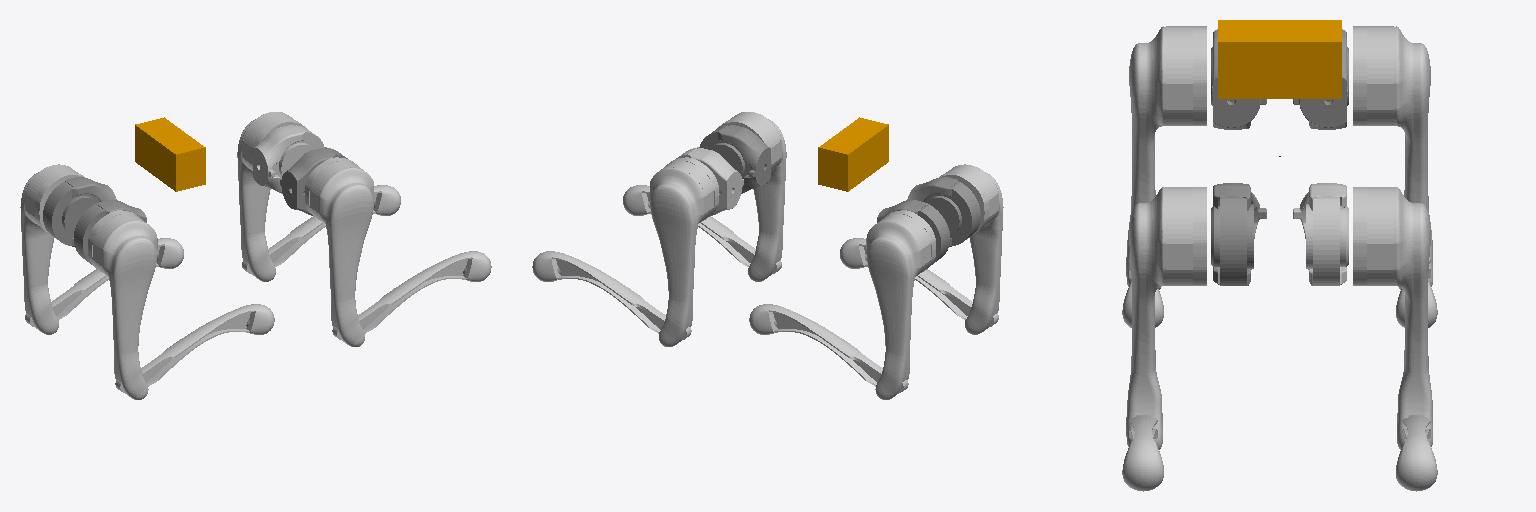
--- Facts derived from the render (not from the file) ---
Views: 3 orthographic renders of the robot side by side, from view 1: azimuth 30°, elevation 25°; view 2: azimuth 150°, elevation 25°; view 3: azimuth 270°, elevation 25°.
Robot: a1_description — 18 links, 17 joints (12 revolute, 5 fixed); root link trunk; default pose: all joints at 0 but 4 set to mid-range because 0 is outside their limits (FR_lower_joint = -1.81, FL_lower_joint = -1.81, RR_lower_joint = -1.81, RL_lower_joint = -1.81).
Visible links, largest first — view 1: RR_upper, FR_upper, RL_upper, FL_upper, trunk, RR_lower, FR_lower, FL_hip, RL_hip, FL_lower, RL_lower, FR_hip (+1 smaller); view 2: RL_upper, FL_upper, RR_upper, FR_upper, trunk, RL_lower, FL_lower, FR_hip, RR_hip, FR_lower, RR_lower, FL_hip (+1 smaller); view 3: FR_upper, FL_upper, trunk, RR_upper, RL_upper, FR_hip, FL_hip, FR_lower, FL_lower, RR_hip, RL_hip, RR_lower (+1 smaller).
Boxes of the visible links, box(x1,y1,x2,y2) form: RR_upper: box(88, 210, 157, 399); FR_upper: box(305, 157, 373, 346); RL_upper: box(20, 164, 83, 334); FL_upper: box(237, 112, 306, 281); trunk: box(135, 117, 205, 191); RR_lower: box(115, 304, 274, 393); FR_lower: box(332, 251, 491, 340); FL_hip: box(253, 125, 324, 193); RL_hip: box(43, 177, 116, 246); FL_lower: box(242, 185, 400, 273); RL_lower: box(25, 238, 183, 326); FR_hip: box(280, 147, 347, 215); RL_upper: box(866, 210, 935, 399); FL_upper: box(650, 157, 718, 346); RR_upper: box(940, 164, 1003, 334); FR_upper: box(717, 112, 786, 281); trunk: box(818, 117, 888, 191); RL_lower: box(749, 304, 908, 393); FL_lower: box(532, 251, 691, 340); FR_hip: box(699, 125, 770, 193); RR_hip: box(907, 177, 980, 246); FR_lower: box(623, 185, 781, 273); RR_lower: box(840, 238, 998, 326); FL_hip: box(676, 147, 743, 215); FR_upper: box(1126, 187, 1206, 449); FL_upper: box(1353, 187, 1432, 449); trunk: box(1218, 20, 1341, 98); RR_upper: box(1126, 26, 1206, 289); RL_upper: box(1353, 26, 1432, 289); FR_hip: box(1211, 183, 1266, 285); FL_hip: box(1293, 183, 1348, 285); FR_lower: box(1122, 415, 1163, 491); FL_lower: box(1396, 415, 1437, 491); RR_hip: box(1211, 29, 1266, 129); RL_hip: box(1293, 29, 1348, 129); RR_lower: box(1122, 259, 1163, 327).
Size in the robot's own frame: 0.6434 by 0.3046 by 0.338 metres.
12 mesh visuals loaded from 5 distinct referenced files (4 OBJ); not drawn: 1 (reference not matched to a file when rendering).

robot.urdf — a1_description:
<?xml version="1.0" ?>
<!-- =================================================================================== -->
<!-- |    This document was autogenerated by xacro from robot.xacro                    | -->
<!-- |    EDITING THIS FILE BY HAND IS NOT RECOMMENDED                                 | -->
<!-- =================================================================================== -->
<robot name="a1_description" xmlns:xacro="http://www.ros.org/wiki/xacro">
  <material name="black">
    <color rgba="0.0 0.0 0.0 1.0"/>
  </material>
  <material name="blue">
    <color rgba="0.0 0.0 0.8 1.0"/>
  </material>
  <material name="green">
    <color rgba="0.0 0.8 0.0 1.0"/>
  </material>
  <material name="grey">
    <color rgba="0.6 0.6 0.6 1.0"/>
  </material>
  <material name="light-grey">
    <color rgba="0.8 0.8 0.8 1.0"/>
  </material>
  <material name="silver">
    <color rgba="0.913725490196 0.913725490196 0.847058823529 1.0"/>
  </material>
  <material name="orange">
    <color rgba="1.0 0.423529411765 0.0392156862745 1.0"/>
  </material>
  <material name="brown">
    <color rgba="0.870588235294 0.811764705882 0.764705882353 1.0"/>
  </material>
  <material name="red">
    <color rgba="0.8 0.0 0.0 1.0"/>
  </material>
  <material name="white">
    <color rgba="1.0 1.0 1.0 1.0"/>
  </material>
 <link name="trunk">
    <visual>
      <origin rpy="0 0 0" xyz="0 0 0"/>
      <geometry>
        <mesh filename="meshes/trunk.obj" scale="1 1 1"/>
      </geometry>
      <material name="grey"/>
    </visual>
    <collision>
      <origin rpy="0 0 0" xyz="0 0 0"/>
      <geometry>
        <box size="0.267 0.194 0.114"/>
      </geometry>
    </collision>
    <inertial>
      <origin rpy="0 0 0" xyz="0.012731 0.002186 0.000515"/>
      <!--  <mass value="4.713"/>  -->
      <mass value="8"/>
      <inertia ixx="0.01683993" ixy="8.3902e-05" ixz="0.000597679" iyy="0.056579028" iyz="2.5134e-05" izz="0.064713601"/>
    </inertial>
    <visual>
      <origin rpy="0 0 0" xyz="-.05 0 .08"/>
      <geometry>
        <box size="0.05 0.12 0.06"/>
      </geometry>
    </visual>
    <collision>
      <origin rpy="0 0 0" xyz="-.05 0 .08"/>
      <geometry>
        <box size="0.05 0.125 0.06"/>
      </geometry>
    </collision>
  </link>
  <joint name="imu_joint" type="fixed">
    <parent link="trunk"/>
    <child link="imu_link"/>
    <origin rpy="0 0 0" xyz="0 0 0"/>
  </joint>
  <link name="imu_link">
    <inertial>
      <mass value="0.001"/>
      <origin rpy="0 0 0" xyz="0 0 0"/>
      <inertia ixx="0.0001" ixy="0" ixz="0" iyy="0.0001" iyz="0" izz="0.0001"/>
    </inertial>
    <visual>
      <origin rpy="0 0 0" xyz="0 0 0"/>
      <geometry>
        <box size="0.001 0.001 0.001"/>
      </geometry>
      <material name="red"/>
    </visual>
    <collision>
      <origin rpy="0 0 0" xyz="0 0 0"/>
      <geometry>
        <box size=".001 .001 .001"/>
      </geometry>
    </collision>
  </link>
  <joint name="FR_hip_joint" type="revolute">
    <origin rpy="0 0 0" xyz="0.183 -0.047 0"/>
    <parent link="trunk"/>
    <child link="FR_hip"/>
    <axis xyz="1 0 0"/>
    <dynamics damping="0" friction="0"/>
    <limit effort="33.5" lower="-0.802851455917" upper="0.802851455917" velocity="16"/>
  </joint>
  <link name="FR_hip">
    <visual>
      <origin rpy="3.14159265359 0 0" xyz="0 0 0"/>
      <geometry>
        <mesh filename="meshes/hip.obj" scale="1 1 1"/>
      </geometry>
      <material name="grey"/>
    </visual>
    <collision>
      <origin rpy="1.57079632679 0 0" xyz="0 0 0"/>
      <geometry>
        <cylinder length="0.04" radius="0.046"/>
      </geometry>
    </collision>
    <inertial>
      <origin rpy="0 0 0" xyz="-0.003311 -0.000635 3.1e-05"/>
      <mass value="0.696"/>
      <inertia ixx="0.000469246" ixy="9.409e-06" ixz="-3.42e-07" iyy="0.00080749" iyz="4.66e-07" izz="0.000552929"/>
    </inertial>
  </link>
<!--   <joint name="FR_hip_fixed" type="fixed">
    <origin rpy="0 0 0" xyz="0 -0.081 0"/>
    <parent link="FR_hip"/>
    <child link="FR_upper_shoulder"/>
  </joint> -->
  <!-- this link is only for collision -->
<!--   <link name="FR_upper_shoulder">
    <inertial>
      <mass value="0.001"/>
      <origin rpy="0 0 0" xyz="0 0 0"/>
      <inertia ixx="0.0001" ixy="0" ixz="0" iyy="0.0001" iyz="0" izz="0.0001"/>
    </inertial>
    <collision>
      <origin rpy="1.57079632679 0 0" xyz="0 0 0"/>
      <geometry>
        <cylinder length="0.032" radius="0.041"/>
      </geometry>
    </collision>
  </link> -->
  <joint name="FR_upper_joint" type="revolute">
    <origin rpy="0 0 0" xyz="0 -0.08505 0"/>
    <parent link="FR_hip"/>
    <child link="FR_upper"/>
    <axis xyz="0 1 0"/>
    <dynamics damping="0" friction="0"/>
    <limit effort="33.5" lower="-1.0471975512" upper="4.18879020479" velocity="16"/>
  </joint>
  <link name="FR_upper">
    <visual>
      <origin rpy="0 0 0" xyz="0 0 0"/>
      <geometry>
        <mesh filename="meshes/thigh_mirror.obj" scale="1 1 1"/>
      </geometry>
      <material name="light-grey"/>
    </visual>
    <collision>
      <origin rpy="0 1.57079632679 0" xyz="0 0 -0.1"/>
      <geometry>
        <box size="0.2 0.0245 0.034"/>
      </geometry>
    </collision>
    <inertial>
      <origin rpy="0 0 0" xyz="-0.003237 0.022327 -0.027326"/>
      <mass value="1.013"/>
      <inertia ixx="0.005529065" ixy="-4.825e-06" ixz="0.000343869" iyy="0.005139339" iyz="-2.2448e-05" izz="0.001367788"/>
    </inertial>
  </link>
  <joint name="FR_lower_joint" type="revolute">
    <origin rpy="0 0 0" xyz="0 0 -0.2"/>
    <parent link="FR_upper"/>
    <child link="FR_lower"/>
    <axis xyz="0 1 0"/>
    <dynamics damping="0" friction="0"/>
    <limit effort="33.5" lower="-2.69653369433" upper="-0.916297857297" velocity="16"/>
  </joint>
  <link name="FR_lower">
    <visual>
      <origin rpy="0 0 0" xyz="0 0 0"/>
      <geometry>
        <mesh filename="meshes/calf.obj" scale="1 1 1"/>
      </geometry>
      <material name="light-grey"/>
    </visual>
    <collision>
      <origin rpy="0 1.57079632679 0" xyz="0 0 -0.1"/>
      <geometry>
        <box size="0.2 0.016 0.016"/>
      </geometry>
    </collision>
    <inertial>
      <origin rpy="0 0 0" xyz="0.006435 0.0 -0.107388"/>
      <mass value="0.166"/>
      <inertia ixx="0.002997972" ixy="0.0" ixz="-0.000141163" iyy="0.003014022" iyz="0.0" izz="3.2426e-05"/>
    </inertial>
  </link>
  <joint name="FR_toe_fixed" type="fixed">
    <origin rpy="0 0 0" xyz="0 0 -0.2"/>
    <parent link="FR_lower"/>
    <child link="FR_toe"/>
  </joint>
  <link name="FR_toe">
    <visual>
      <origin rpy="0 0 0" xyz="0 0 0"/>
      <geometry>
        <sphere radius="0.01"/>
      </geometry>
      <material name="grey"/>
    </visual>
    <collision>
      <origin rpy="0 0 0" xyz="0 0 0"/>
      <geometry>
        <sphere radius="0.02"/>
      </geometry>
    </collision>
    <inertial>
      <mass value="0.06"/>
      <inertia ixx="9.6e-06" ixy="0.0" ixz="0.0" iyy="9.6e-06" iyz="0.0" izz="9.6e-06"/>
    </inertial>
  </link>
  <transmission name="FR_hip_tran">
    <type>transmission_interface/SimpleTransmission</type>
    <joint name="FR_hip_joint">
      <hardwareInterface>hardware_interface/EffortJointInterface</hardwareInterface>
    </joint>
    <actuator name="FR_hip_motor">
      <hardwareInterface>hardware_interface/EffortJointInterface</hardwareInterface>
      <mechanicalReduction>1</mechanicalReduction>
    </actuator>
  </transmission>
  <transmission name="FR_upper_tran">
    <type>transmission_interface/SimpleTransmission</type>
    <joint name="FR_upper_joint">
      <hardwareInterface>hardware_interface/EffortJointInterface</hardwareInterface>
    </joint>
    <actuator name="FR_upper_motor">
      <hardwareInterface>hardware_interface/EffortJointInterface</hardwareInterface>
      <mechanicalReduction>1</mechanicalReduction>
    </actuator>
  </transmission>
  <transmission name="FR_lower_tran">
    <type>transmission_interface/SimpleTransmission</type>
    <joint name="FR_lower_joint">
      <hardwareInterface>hardware_interface/EffortJointInterface</hardwareInterface>
    </joint>
    <actuator name="FR_lower_motor">
      <hardwareInterface>hardware_interface/EffortJointInterface</hardwareInterface>
      <mechanicalReduction>1</mechanicalReduction>
    </actuator>
  </transmission>
  <joint name="FL_hip_joint" type="revolute">
    <origin rpy="0 0 0" xyz="0.183 0.047 0"/>
    <parent link="trunk"/>
    <child link="FL_hip"/>
    <axis xyz="1 0 0"/>
    <dynamics damping="0" friction="0"/>
    <limit effort="33.5" lower="-0.802851455917" upper="0.802851455917" velocity="16"/>
  </joint>
  <link name="FL_hip">
    <visual>
      <origin rpy="0 0 0" xyz="0 0 0"/>
      <geometry>
        <mesh filename="meshes/hip.obj" scale="1 1 1"/>
      </geometry>
      <material name="light-grey"/>
    </visual>
    <collision>
      <origin rpy="1.57079632679 0 0" xyz="0 0 0"/>
      <geometry>
        <cylinder length="0.04" radius="0.046"/>
      </geometry>
    </collision>
    <inertial>
      <origin rpy="0 0 0" xyz="-0.003311 0.000635 3.1e-05"/>
      <mass value="0.696"/>
      <inertia ixx="0.000469246" ixy="-9.409e-06" ixz="-3.42e-07" iyy="0.00080749" iyz="-4.66e-07" izz="0.000552929"/>
    </inertial>
  </link>
<!--   <joint name="FL_hip_fixed" type="fixed">
    <origin rpy="0 0 0" xyz="0 0.081 0"/>
    <parent link="FL_hip"/>
    <child link="FL_upper_shoulder"/>
  </joint> -->
  <!-- this link is only for collision -->
<!--   <link name="FL_upper_shoulder">
    <inertial>
      <mass value="0.001"/>
      <origin rpy="0 0 0" xyz="0 0 0"/>
      <inertia ixx="0.0001" ixy="0" ixz="0" iyy="0.0001" iyz="0" izz="0.0001"/>
    </inertial>
    <collision>
      <origin rpy="1.57079632679 0 0" xyz="0 0 0"/>
      <geometry>
        <cylinder length="0.032" radius="0.041"/>
      </geometry>
    </collision>
  </link> -->
  <joint name="FL_upper_joint" type="revolute">
    <origin rpy="0 0 0" xyz="0 0.08505 0"/>
    <parent link="FL_hip"/>
    <child link="FL_upper"/>
    <axis xyz="0 1 0"/>
    <dynamics damping="0" friction="0"/>
    <limit effort="33.5" lower="-1.0471975512" upper="4.18879020479" velocity="16"/>
  </joint>
  <link name="FL_upper">
    <visual>
      <origin rpy="0 0 0" xyz="0 0 0"/>
      <geometry>
        <mesh filename="meshes/thigh.obj" scale="1 1 1"/>
      </geometry>
      <material name="light-grey"/>
    </visual>
    <collision>
      <origin rpy="0 1.57079632679 0" xyz="0 0 -0.1"/>
      <geometry>
        <box size="0.2 0.0245 0.034"/>
      </geometry>
    </collision>
    <inertial>
      <origin rpy="0 0 0" xyz="-0.003237 -0.022327 -0.027326"/>
      <mass value="1.013"/>
      <inertia ixx="0.005529065" ixy="4.825e-06" ixz="0.000343869" iyy="0.005139339" iyz="2.2448e-05" izz="0.001367788"/>
    </inertial>
  </link>
  <joint name="FL_lower_joint" type="revolute">
    <origin rpy="0 0 0" xyz="0 0 -0.2"/>
    <parent link="FL_upper"/>
    <child link="FL_lower"/>
    <axis xyz="0 1 0"/>
    <dynamics damping="0" friction="0"/>
    <limit effort="33.5" lower="-2.69653369433" upper="-0.916297857297" velocity="16"/>
  </joint>
  <link name="FL_lower">
    <visual>
      <origin rpy="0 0 0" xyz="0 0 0"/>
      <geometry>
        <mesh filename="meshes/calf.obj" scale="1 1 1"/>
      </geometry>
      <material name="light-grey"/>
    </visual>
    <collision>
      <origin rpy="0 1.57079632679 0" xyz="0 0 -0.1"/>
      <geometry>
        <box size="0.2 0.016 0.016"/>
      </geometry>
    </collision>
    <inertial>
      <origin rpy="0 0 0" xyz="0.006435 0.0 -0.107388"/>
      <mass value="0.166"/>
      <inertia ixx="0.002997972" ixy="0.0" ixz="-0.000141163" iyy="0.003014022" iyz="0.0" izz="3.2426e-05"/>
    </inertial>
  </link>
  <joint name="FL_toe_fixed" type="fixed">
    <origin rpy="0 0 0" xyz="0 0 -0.2"/>
    <parent link="FL_lower"/>
    <child link="FL_toe"/>
  </joint>
  <link name="FL_toe">
    <visual>
      <origin rpy="0 0 0" xyz="0 0 0"/>
      <geometry>
        <sphere radius="0.01"/>
      </geometry>
      <material name="grey"/>
    </visual>
    <collision>
      <origin rpy="0 0 0" xyz="0 0 0"/>
      <geometry>
        <sphere radius="0.02"/>
      </geometry>
    </collision>
    <inertial>
      <mass value="0.06"/>
      <inertia ixx="9.6e-06" ixy="0.0" ixz="0.0" iyy="9.6e-06" iyz="0.0" izz="9.6e-06"/>
    </inertial>
  </link>
  <transmission name="FL_hip_tran">
    <type>transmission_interface/SimpleTransmission</type>
    <joint name="FL_hip_joint">
      <hardwareInterface>hardware_interface/EffortJointInterface</hardwareInterface>
    </joint>
    <actuator name="FL_hip_motor">
      <hardwareInterface>hardware_interface/EffortJointInterface</hardwareInterface>
      <mechanicalReduction>1</mechanicalReduction>
    </actuator>
  </transmission>
  <transmission name="FL_upper_tran">
    <type>transmission_interface/SimpleTransmission</type>
    <joint name="FL_upper_joint">
      <hardwareInterface>hardware_interface/EffortJointInterface</hardwareInterface>
    </joint>
    <actuator name="FL_upper_motor">
      <hardwareInterface>hardware_interface/EffortJointInterface</hardwareInterface>
      <mechanicalReduction>1</mechanicalReduction>
    </actuator>
  </transmission>
  <transmission name="FL_lower_tran">
    <type>transmission_interface/SimpleTransmission</type>
    <joint name="FL_lower_joint">
      <hardwareInterface>hardware_interface/EffortJointInterface</hardwareInterface>
    </joint>
    <actuator name="FL_lower_motor">
      <hardwareInterface>hardware_interface/EffortJointInterface</hardwareInterface>
      <mechanicalReduction>1</mechanicalReduction>
    </actuator>
  </transmission>
  <joint name="RR_hip_joint" type="revolute">
    <origin rpy="0 0 0" xyz="-0.183 -0.047 0"/>
    <parent link="trunk"/>
    <child link="RR_hip"/>
    <axis xyz="1 0 0"/>
    <dynamics damping="0" friction="0"/>
    <limit effort="33.5" lower="-0.802851455917" upper="0.802851455917" velocity="16"/>
  </joint>
  <link name="RR_hip">
    <visual>
      <origin rpy="3.14159265359 3.14159265359 0" xyz="0 0 0"/>
      <geometry>
        <mesh filename="meshes/hip.obj" scale="1 1 1"/>
      </geometry>
      <material name="grey"/>
    </visual>
    <collision>
      <origin rpy="1.57079632679 0 0" xyz="0 0 0"/>
      <geometry>
        <cylinder length="0.04" radius="0.046"/>
      </geometry>
    </collision>
    <inertial>
      <origin rpy="0 0 0" xyz="0.003311 -0.000635 3.1e-05"/>
      <mass value="0.696"/>
      <inertia ixx="0.000469246" ixy="-9.409e-06" ixz="3.42e-07" iyy="0.00080749" iyz="4.66e-07" izz="0.000552929"/>
    </inertial>
  </link>
<!--   <joint name="RR_hip_fixed" type="fixed">
    <origin rpy="0 0 0" xyz="0 -0.081 0"/>
    <parent link="RR_hip"/>
    <child link="RR_upper_shoulder"/>
  </joint> -->
  <!-- this link is only for collision -->
<!--   <link name="RR_upper_shoulder">
    <inertial>
      <mass value="0.001"/>
      <origin rpy="0 0 0" xyz="0 0 0"/>
      <inertia ixx="0.0001" ixy="0" ixz="0" iyy="0.0001" iyz="0" izz="0.0001"/>
    </inertial>
    <collision>
      <origin rpy="1.57079632679 0 0" xyz="0 0 0"/>
      <geometry>
        <cylinder length="0.032" radius="0.041"/>
      </geometry>
    </collision>
  </link> -->
  <joint name="RR_upper_joint" type="revolute">
    <origin rpy="0 0 0" xyz="0 -0.08505 0"/>
    <parent link="RR_hip"/>
    <child link="RR_upper"/>
    <axis xyz="0 1 0"/>
    <dynamics damping="0" friction="0"/>
    <limit effort="33.5" lower="-1.0471975512" upper="4.18879020479" velocity="16"/>
  </joint>
  <link name="RR_upper">
    <visual>
      <origin rpy="0 0 0" xyz="0 0 0"/>
      <geometry>
        <mesh filename="meshes/thigh_mirror.obj" scale="1 1 1"/>
      </geometry>
      <material name="light-grey"/>
    </visual>
    <collision>
      <origin rpy="0 1.57079632679 0" xyz="0 0 -0.1"/>
      <geometry>
        <box size="0.2 0.0245 0.034"/>
      </geometry>
    </collision>
    <inertial>
      <origin rpy="0 0 0" xyz="-0.003237 0.022327 -0.027326"/>
      <mass value="1.013"/>
      <inertia ixx="0.005529065" ixy="-4.825e-06" ixz="0.000343869" iyy="0.005139339" iyz="-2.2448e-05" izz="0.001367788"/>
    </inertial>
  </link>
  <joint name="RR_lower_joint" type="revolute">
    <origin rpy="0 0 0" xyz="0 0 -0.2"/>
    <parent link="RR_upper"/>
    <child link="RR_lower"/>
    <axis xyz="0 1 0"/>
    <dynamics damping="0" friction="0"/>
    <limit effort="33.5" lower="-2.69653369433" upper="-0.916297857297" velocity="16"/>
  </joint>
  <link name="RR_lower">
    <visual>
      <origin rpy="0 0 0" xyz="0 0 0"/>
      <geometry>
        <mesh filename="meshes/calf.obj" scale="1 1 1"/>
      </geometry>
      <material name="light-grey"/>
    </visual>
    <collision>
      <origin rpy="0 1.57079632679 0" xyz="0 0 -0.1"/>
      <geometry>
        <box size="0.2 0.016 0.016"/>
      </geometry>
    </collision>
    <inertial>
      <origin rpy="0 0 0" xyz="0.006435 0.0 -0.107388"/>
      <mass value="0.166"/>
      <inertia ixx="0.002997972" ixy="0.0" ixz="-0.000141163" iyy="0.003014022" iyz="0.0" izz="3.2426e-05"/>
    </inertial>
  </link>
  <joint name="RR_toe_fixed" type="fixed">
    <origin rpy="0 0 0" xyz="0 0 -0.2"/>
    <parent link="RR_lower"/>
    <child link="RR_toe"/>
  </joint>
  <link name="RR_toe">
    <visual>
      <origin rpy="0 0 0" xyz="0 0 0"/>
      <geometry>
        <sphere radius="0.01"/>
      </geometry>
      <material name="grey"/>
    </visual>
    <collision>
      <origin rpy="0 0 0" xyz="0 0 0"/>
      <geometry>
        <sphere radius="0.02"/>
      </geometry>
    </collision>
    <inertial>
      <mass value="0.06"/>
      <inertia ixx="9.6e-06" ixy="0.0" ixz="0.0" iyy="9.6e-06" iyz="0.0" izz="9.6e-06"/>
    </inertial>
  </link>
  <transmission name="RR_hip_tran">
    <type>transmission_interface/SimpleTransmission</type>
    <joint name="RR_hip_joint">
      <hardwareInterface>hardware_interface/EffortJointInterface</hardwareInterface>
    </joint>
    <actuator name="RR_hip_motor">
      <hardwareInterface>hardware_interface/EffortJointInterface</hardwareInterface>
      <mechanicalReduction>1</mechanicalReduction>
    </actuator>
  </transmission>
  <transmission name="RR_upper_tran">
    <type>transmission_interface/SimpleTransmission</type>
    <joint name="RR_upper_joint">
      <hardwareInterface>hardware_interface/EffortJointInterface</hardwareInterface>
    </joint>
    <actuator name="RR_upper_motor">
      <hardwareInterface>hardware_interface/EffortJointInterface</hardwareInterface>
      <mechanicalReduction>1</mechanicalReduction>
    </actuator>
  </transmission>
  <transmission name="RR_lower_tran">
    <type>transmission_interface/SimpleTransmission</type>
    <joint name="RR_lower_joint">
      <hardwareInterface>hardware_interface/EffortJointInterface</hardwareInterface>
    </joint>
    <actuator name="RR_lower_motor">
      <hardwareInterface>hardware_interface/EffortJointInterface</hardwareInterface>
      <mechanicalReduction>1</mechanicalReduction>
    </actuator>
  </transmission>
  <joint name="RL_hip_joint" type="revolute">
    <origin rpy="0 0 0" xyz="-0.183 0.047 0"/>
    <parent link="trunk"/>
    <child link="RL_hip"/>
    <axis xyz="1 0 0"/>
    <dynamics damping="0" friction="0"/>
    <limit effort="33.5" lower="-0.802851455917" upper="0.802851455917" velocity="16"/>
  </joint>
  <link name="RL_hip">
    <visual>
      <origin rpy="0 3.14159265359 0" xyz="0 0 0"/>
      <geometry>
        <mesh filename="meshes/hip.obj" scale="1 1 1"/>
      </geometry>
      <material name="grey"/>
    </visual>
    <collision>
      <origin rpy="1.57079632679 0 0" xyz="0 0 0"/>
      <geometry>
        <cylinder length="0.04" radius="0.046"/>
      </geometry>
    </collision>
    <inertial>
      <origin rpy="0 0 0" xyz="0.003311 0.000635 3.1e-05"/>
      <mass value="0.696"/>
      <inertia ixx="0.000469246" ixy="9.409e-06" ixz="3.42e-07" iyy="0.00080749" iyz="-4.66e-07" izz="0.000552929"/>
    </inertial>
  </link>
<!--   <joint name="RL_hip_fixed" type="fixed">
    <origin rpy="0 0 0" xyz="0 0.081 0"/>
    <parent link="RL_hip"/>
    <child link="RL_upper_shoulder"/>
  </joint> -->
  <!-- this link is only for collision -->
<!--   <link name="RL_upper_shoulder">
    <inertial>
      <mass value="0.001"/>
      <origin rpy="0 0 0" xyz="0 0 0"/>
      <inertia ixx="0.0001" ixy="0" ixz="0" iyy="0.0001" iyz="0" izz="0.0001"/>
    </inertial>
    <collision>
      <origin rpy="1.57079632679 0 0" xyz="0 0 0"/>
      <geometry>
        <cylinder length="0.032" radius="0.041"/>
      </geometry>
    </collision>
  </link> -->
  <joint name="RL_upper_joint" type="revolute">
    <origin rpy="0 0 0" xyz="0 0.08505 0"/>
    <parent link="RL_hip"/>
    <child link="RL_upper"/>
    <axis xyz="0 1 0"/>
    <dynamics damping="0" friction="0"/>
    <limit effort="33.5" lower="-1.0471975512" upper="4.18879020479" velocity="16"/>
  </joint>
  <link name="RL_upper">
    <visual>
      <origin rpy="0 0 0" xyz="0 0 0"/>
      <geometry>
        <mesh filename="meshes/thigh.obj" scale="1 1 1"/>
      </geometry>
      <material name="light-grey"/>
    </visual>
    <collision>
      <origin rpy="0 1.57079632679 0" xyz="0 0 -0.1"/>
      <geometry>
        <box size="0.2 0.0245 0.034"/>
      </geometry>
    </collision>
    <inertial>
      <origin rpy="0 0 0" xyz="-0.003237 -0.022327 -0.027326"/>
      <mass value="1.013"/>
      <inertia ixx="0.005529065" ixy="4.825e-06" ixz="0.000343869" iyy="0.005139339" iyz="2.2448e-05" izz="0.001367788"/>
    </inertial>
  </link>
  <joint name="RL_lower_joint" type="revolute">
    <origin rpy="0 0 0" xyz="0 0 -0.2"/>
    <parent link="RL_upper"/>
    <child link="RL_lower"/>
    <axis xyz="0 1 0"/>
    <dynamics damping="0" friction="0"/>
    <limit effort="33.5" lower="-2.69653369433" upper="-0.916297857297" velocity="16"/>
  </joint>
  <link name="RL_lower">
    <visual>
      <origin rpy="0 0 0" xyz="0 0 0"/>
      <geometry>
        <mesh filename="meshes/calf.obj" scale="1 1 1"/>
      </geometry>
      <material name="light-grey"/>
    </visual>
    <collision>
      <origin rpy="0 1.57079632679 0" xyz="0 0 -0.1"/>
      <geometry>
        <box size="0.2 0.016 0.016"/>
      </geometry>
    </collision>
    <inertial>
      <origin rpy="0 0 0" xyz="0.006435 0.0 -0.107388"/>
      <mass value="0.166"/>
      <inertia ixx="0.002997972" ixy="0.0" ixz="-0.000141163" iyy="0.003014022" iyz="0.0" izz="3.2426e-05"/>
    </inertial>
  </link>
  <joint name="RL_toe_fixed" type="fixed">
    <origin rpy="0 0 0" xyz="0 0 -0.2"/>
    <parent link="RL_lower"/>
    <child link="RL_toe"/>
  </joint>
  <link name="RL_toe">
    <visual>
      <origin rpy="0 0 0" xyz="0 0 0"/>
      <geometry>
        <sphere radius="0.01"/>
      </geometry>
      <material name="grey"/>
    </visual>
    <collision>
      <origin rpy="0 0 0" xyz="0 0 0"/>
      <geometry>
        <sphere radius="0.02"/>
      </geometry>
    </collision>
    <inertial>
      <mass value="0.06"/>
      <inertia ixx="9.6e-06" ixy="0.0" ixz="0.0" iyy="9.6e-06" iyz="0.0" izz="9.6e-06"/>
    </inertial>
  </link>
  <transmission name="RL_hip_tran">
    <type>transmission_interface/SimpleTransmission</type>
    <joint name="RL_hip_joint">
      <hardwareInterface>hardware_interface/EffortJointInterface</hardwareInterface>
    </joint>
    <actuator name="RL_hip_motor">
      <hardwareInterface>hardware_interface/EffortJointInterface</hardwareInterface>
      <mechanicalReduction>1</mechanicalReduction>
    </actuator>
  </transmission>
  <transmission name="RL_upper_tran">
    <type>transmission_interface/SimpleTransmission</type>
    <joint name="RL_upper_joint">
      <hardwareInterface>hardware_interface/EffortJointInterface</hardwareInterface>
    </joint>
    <actuator name="RL_upper_motor">
      <hardwareInterface>hardware_interface/EffortJointInterface</hardwareInterface>
      <mechanicalReduction>1</mechanicalReduction>
    </actuator>
  </transmission>
  <transmission name="RL_lower_tran">
    <type>transmission_interface/SimpleTransmission</type>
    <joint name="RL_lower_joint">
      <hardwareInterface>hardware_interface/EffortJointInterface</hardwareInterface>
    </joint>
    <actuator name="RL_lower_motor">
      <hardwareInterface>hardware_interface/EffortJointInterface</hardwareInterface>
      <mechanicalReduction>1</mechanicalReduction>
    </actuator>
  </transmission>
</robot>
